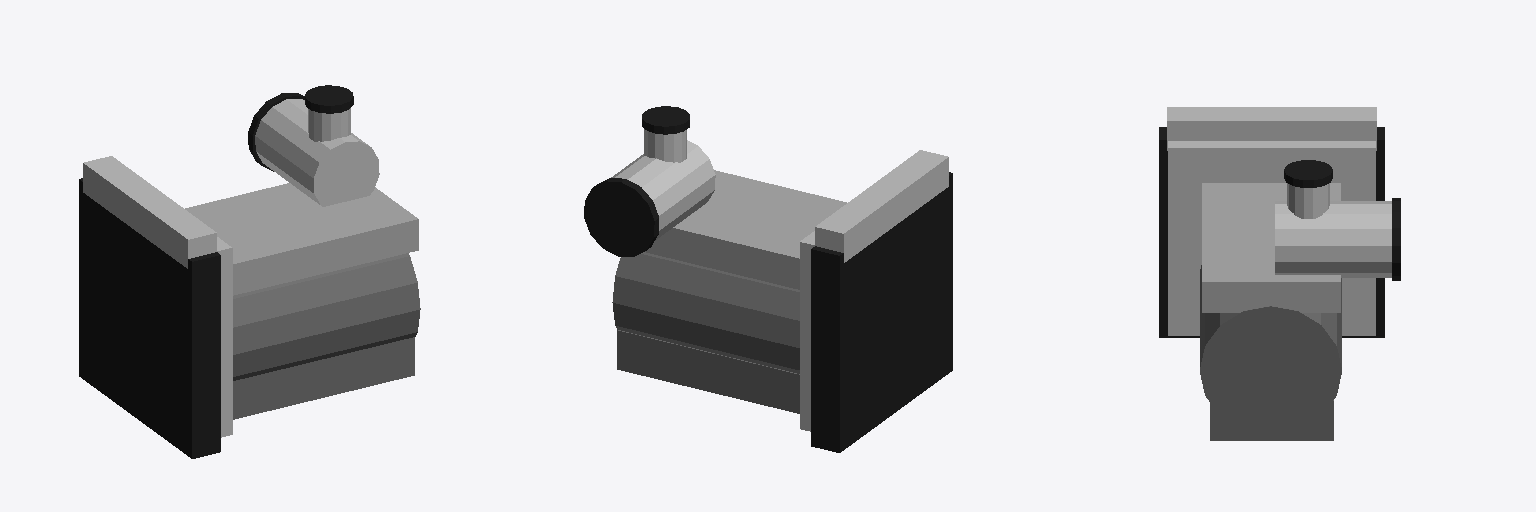
File: 2806A-E18TAG1A.obj
3 views of the same model, side by side, from view 1: azimuth 30°, elevation 25°; view 2: azimuth 150°, elevation 25°; view 3: azimuth 270°, elevation 25° (orthographic).
Visible parts, largest first — view 1: Box01, Cylinder01, Box05, Cylinder02, Box04, Box02, Box03, Cylinder04, Cylinder05, Cylinder03; view 2: Box01, Cylinder01, Box05, Box04, Box02, Cylinder03, Cylinder02, Box03, Cylinder04, Cylinder05; view 3: Cylinder01, Box03, Box05, Cylinder02, Box02, Box01, Box04, Cylinder04, Cylinder05, Cylinder03.
Boxes of the visible parts, x1=… form: Box01: x1=79, y1=178, x2=220, y2=458; Cylinder01: x1=233, y1=253, x2=420, y2=380; Box05: x1=185, y1=183, x2=418, y2=295; Cylinder02: x1=255, y1=99, x2=379, y2=206; Box04: x1=233, y1=337, x2=414, y2=419; Box02: x1=83, y1=156, x2=216, y2=268; Box03: x1=217, y1=237, x2=232, y2=437; Cylinder04: x1=308, y1=108, x2=350, y2=141; Cylinder05: x1=305, y1=85, x2=353, y2=113; Cylinder03: x1=248, y1=93, x2=304, y2=171; Box01: x1=811, y1=172, x2=952, y2=452; Cylinder01: x1=612, y1=252, x2=799, y2=373; Box05: x1=645, y1=170, x2=846, y2=289; Box04: x1=617, y1=330, x2=799, y2=413; Box02: x1=815, y1=150, x2=948, y2=262; Cylinder03: x1=584, y1=178, x2=658, y2=256; Cylinder02: x1=611, y1=140, x2=715, y2=240; Box03: x1=800, y1=231, x2=814, y2=431; Cylinder04: x1=644, y1=129, x2=686, y2=162; Cylinder05: x1=642, y1=106, x2=689, y2=134; Cylinder01: x1=1200, y1=265, x2=1341, y2=435; Box03: x1=1168, y1=141, x2=1375, y2=335; Box05: x1=1202, y1=183, x2=1340, y2=312; Cylinder02: x1=1275, y1=201, x2=1391, y2=277; Box02: x1=1167, y1=107, x2=1376, y2=150; Box01: x1=1159, y1=127, x2=1384, y2=337; Box04: x1=1210, y1=400, x2=1333, y2=440; Cylinder04: x1=1287, y1=183, x2=1329, y2=218; Cylinder05: x1=1284, y1=160, x2=1332, y2=187; Cylinder03: x1=1392, y1=198, x2=1400, y2=280.
Size of the model in its own units: 130 by 128 by 110.